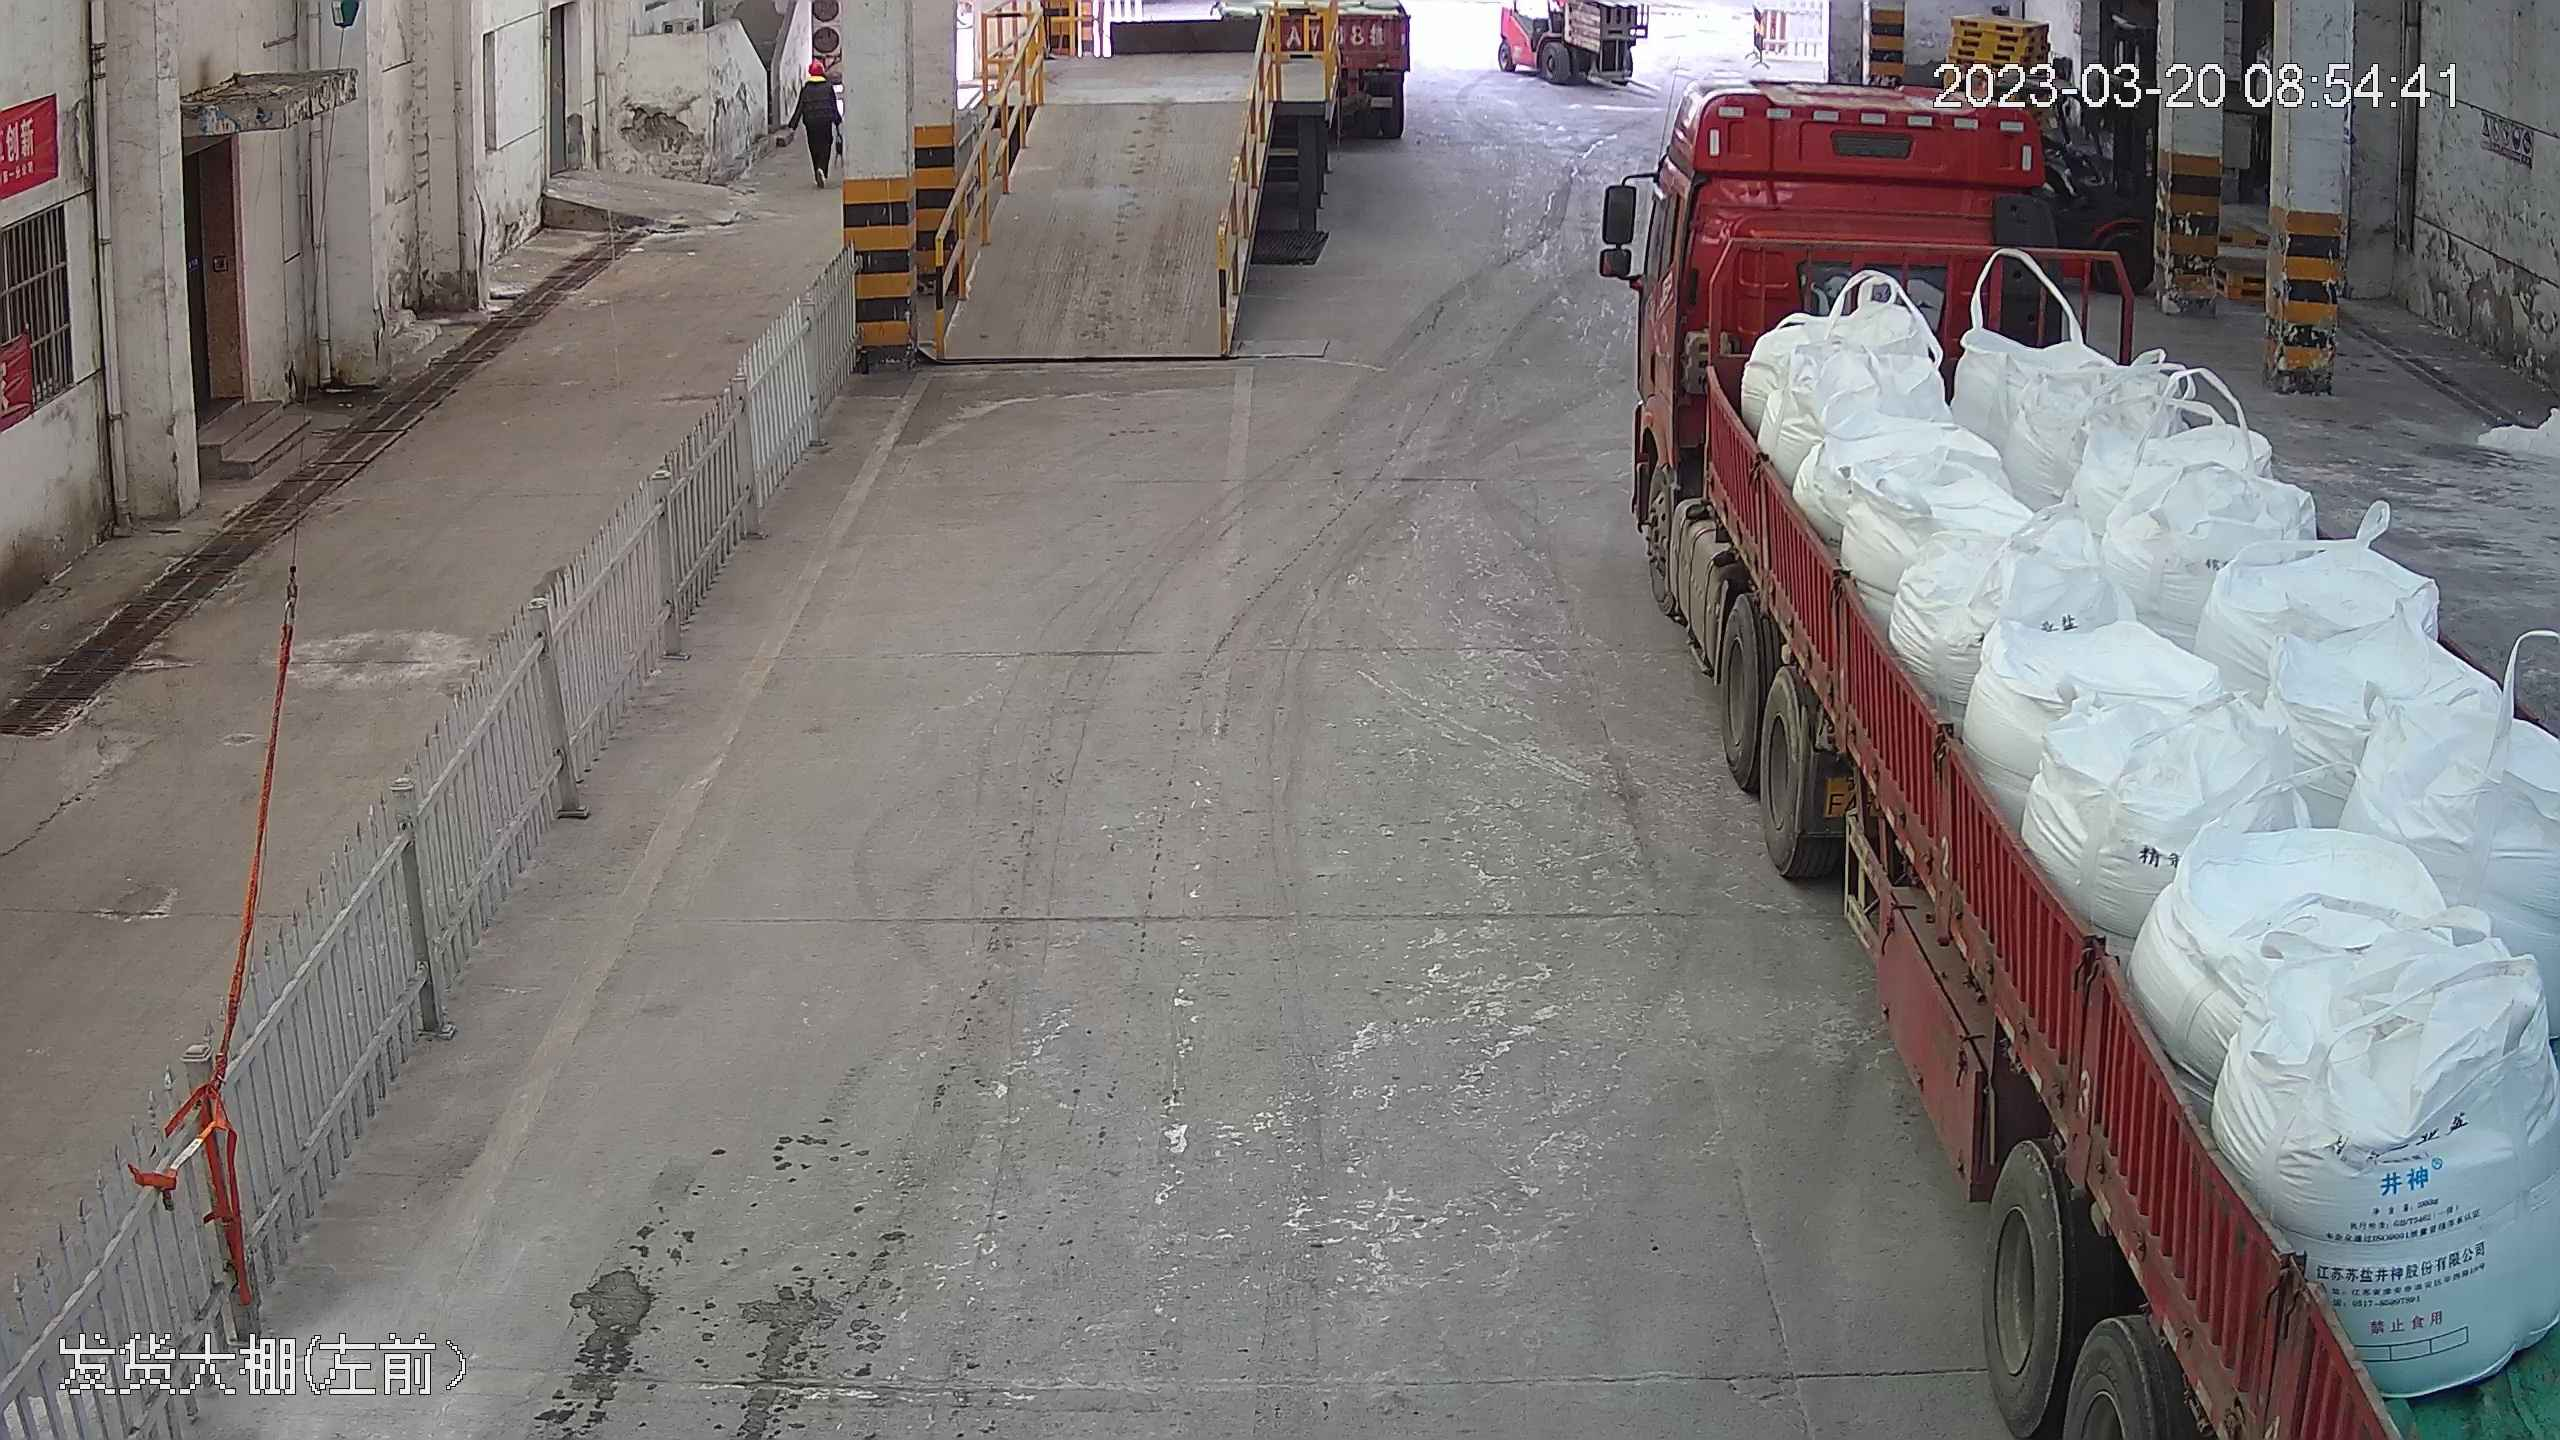head: (795, 59, 836, 102)
helmet: (807, 59, 825, 75)
people: (796, 55, 843, 183)
truck: (1599, 56, 2560, 1440)
